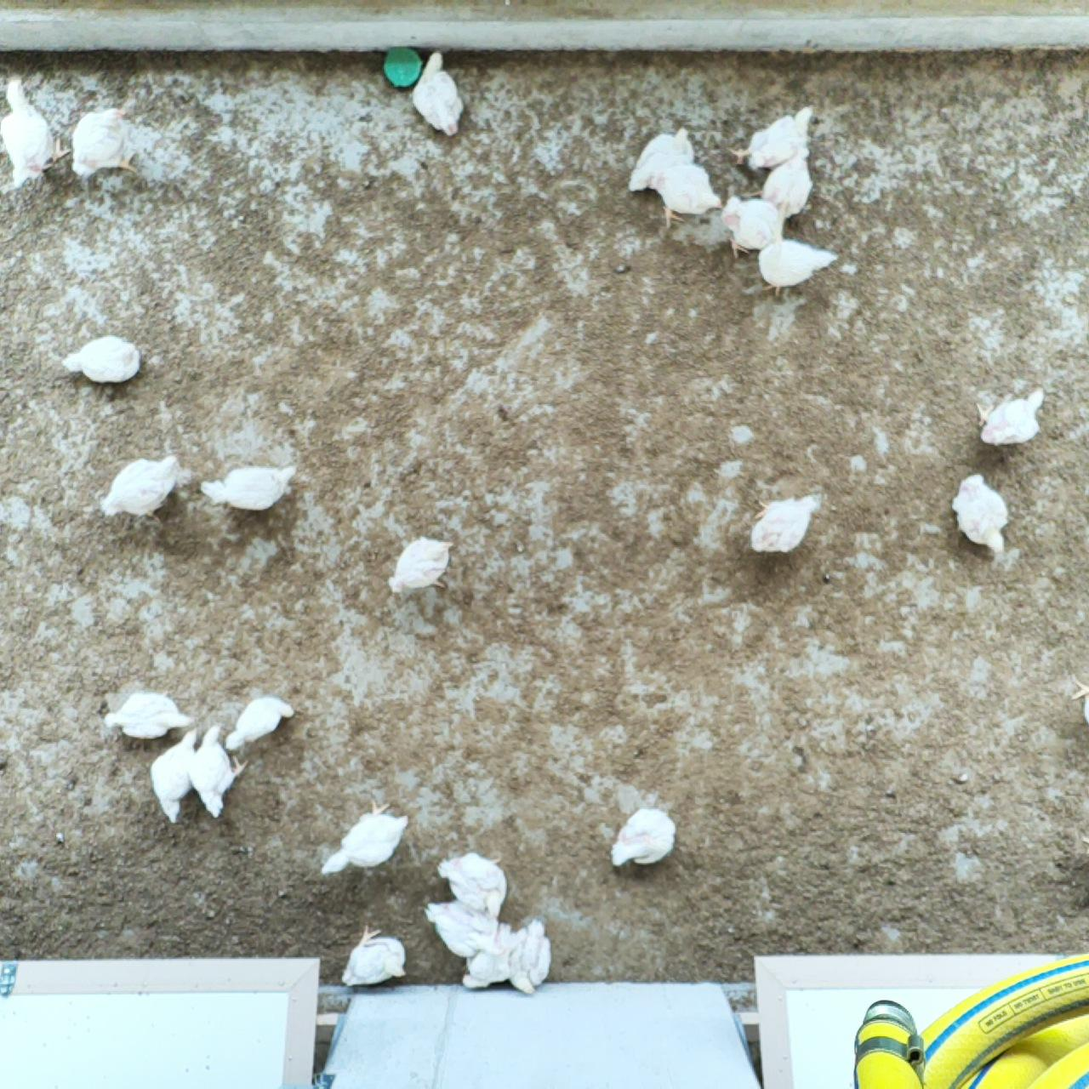chicken: (0, 70, 71, 192), (319, 793, 410, 880), (61, 100, 143, 183), (183, 719, 251, 815), (144, 728, 206, 826), (726, 105, 815, 173), (100, 450, 185, 520), (951, 466, 1015, 556), (748, 489, 825, 559), (409, 45, 466, 137), (199, 460, 296, 514), (753, 236, 838, 297), (628, 122, 697, 196), (608, 808, 683, 876), (969, 383, 1046, 449), (754, 138, 816, 218), (454, 929, 532, 991), (718, 191, 787, 260), (436, 849, 505, 918), (106, 684, 189, 741), (423, 899, 504, 957), (344, 921, 410, 992), (655, 159, 722, 227), (500, 918, 554, 999), (60, 334, 141, 385), (222, 691, 292, 750), (389, 532, 455, 592)
